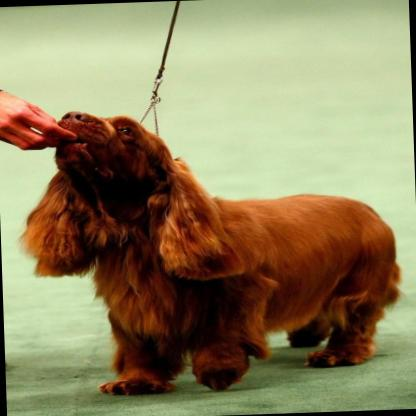Sussex_spaniel: (13, 97, 407, 397)
